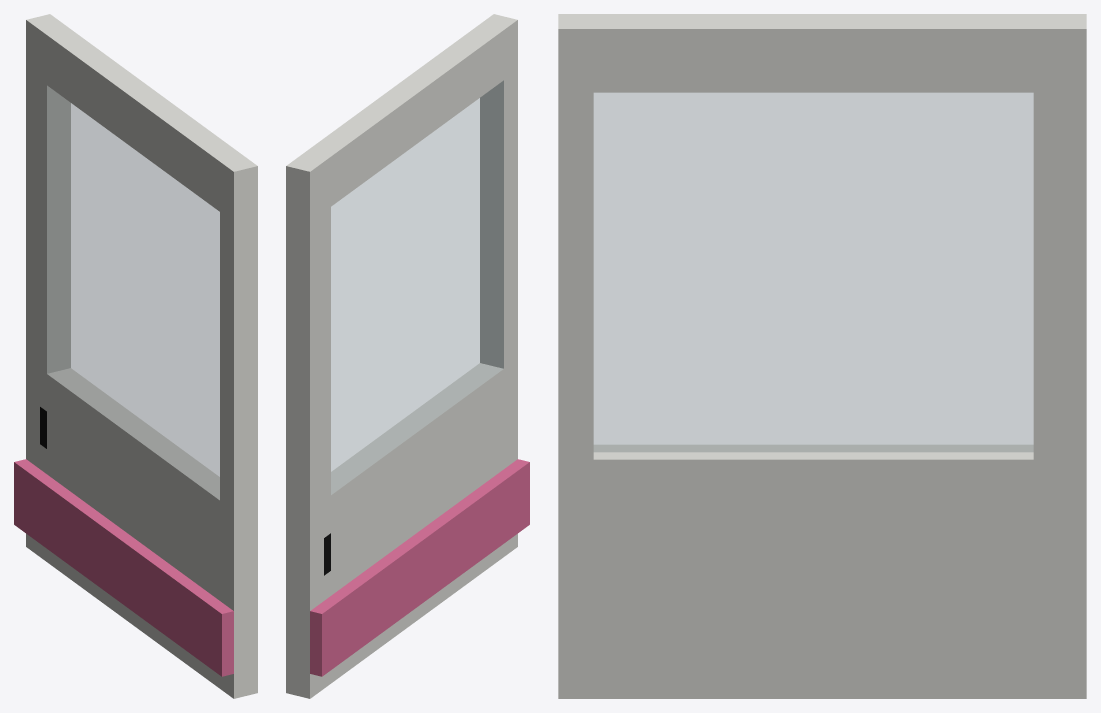
Rendered from ice_cream_van_rear_door.glb.
3 views of the same model, side by side, from view 1: azimuth 30°, elevation 25°; view 2: azimuth 150°, elevation 25°; view 3: azimuth 270°, elevation 25° (orthographic). The views are drawn at different scales.
Parts seen in each view (by area): view 1: body:compound; view 2: body:compound; view 3: body:compound.
Boxes of the visible parts, box(x1,y1,x2,y2) form: body:compound: box(14, 14, 257, 698); body:compound: box(286, 14, 529, 698); body:compound: box(558, 14, 1086, 698).
Size of the model in its own units: 0.0938 by 1.31 by 0.9375.
